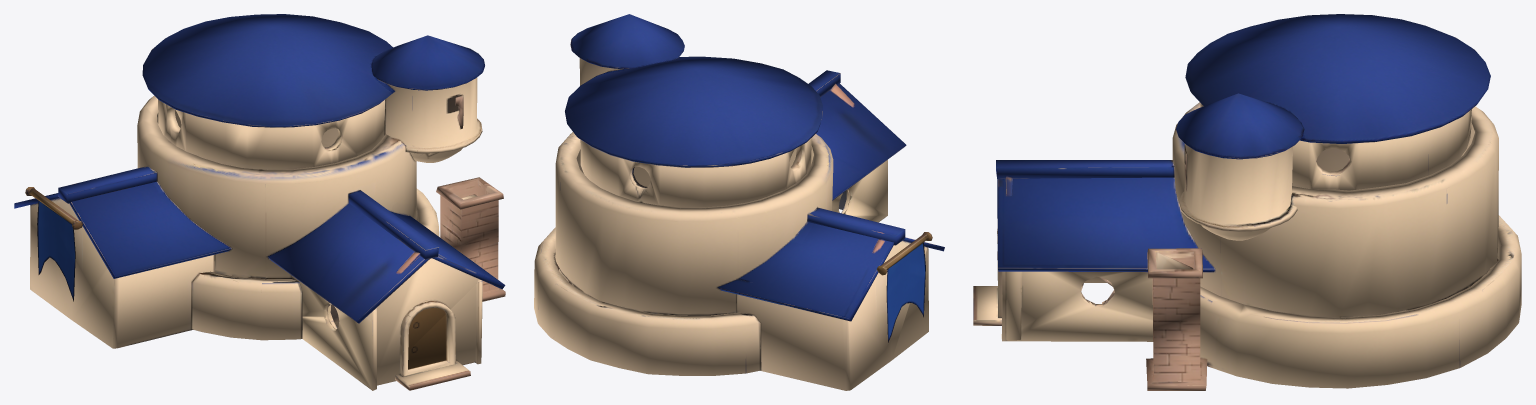
File: meshy-c-3000b.glb
3 renders of one model, left to right at view 1: azimuth 30°, elevation 25°; view 2: azimuth 150°, elevation 25°; view 3: azimuth 270°, elevation 25°, orthographic. The views are drawn at different scales.
Bounding box in the file's own units: 0.9252 × 0.566 × 1.
1 material, 1 textured.
